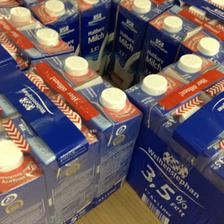Milch: (8, 95, 100, 223), (58, 81, 146, 207), (0, 131, 52, 221), (140, 4, 196, 84), (114, 0, 166, 84), (122, 70, 198, 119), (31, 0, 83, 64), (159, 51, 223, 99), (78, 1, 114, 76), (5, 29, 80, 62), (0, 4, 42, 36)
